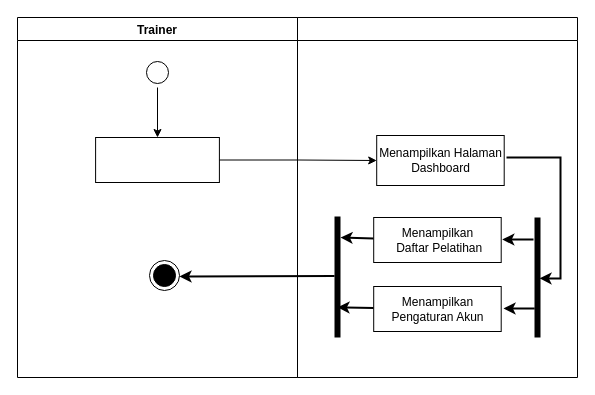
The diagram is 595 pixels wide and 395 high, and some of its shapes have lost their labels. Each missing label, with the box of its shape:
Akses Halaman Dashboard: (95, 136, 219, 182)
Website: (296, 16, 578, 378)
